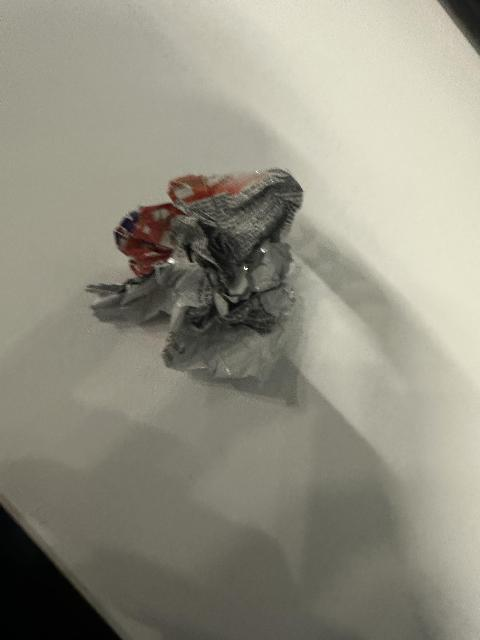Plastik: (84, 159, 308, 390)
